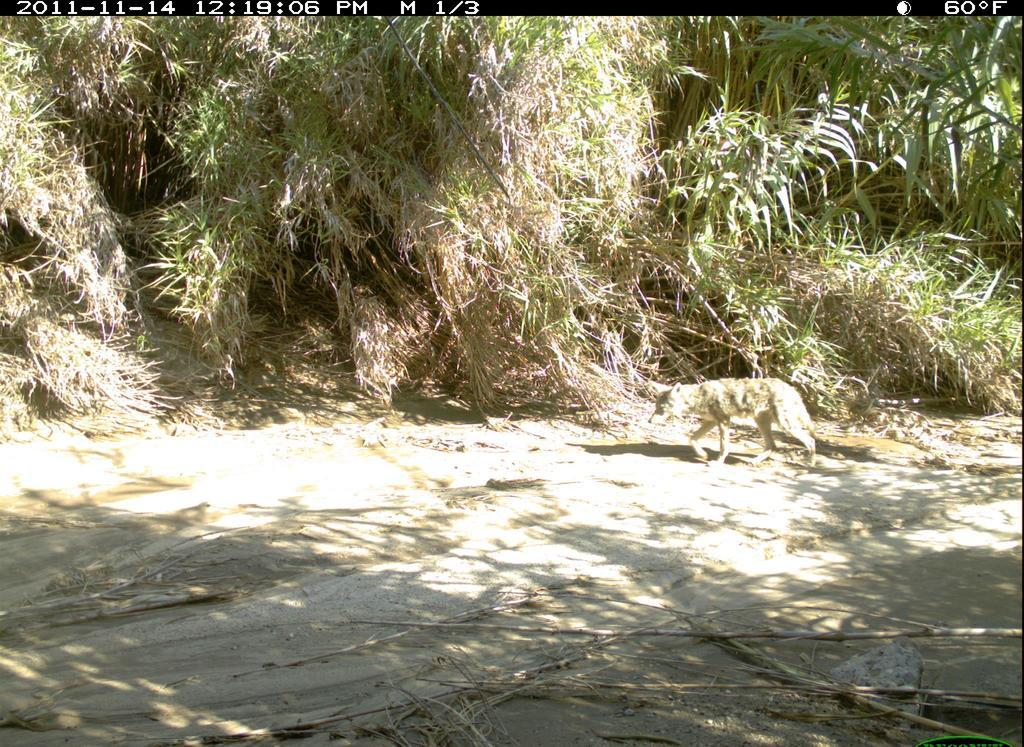coyote: (644, 374, 824, 479)
